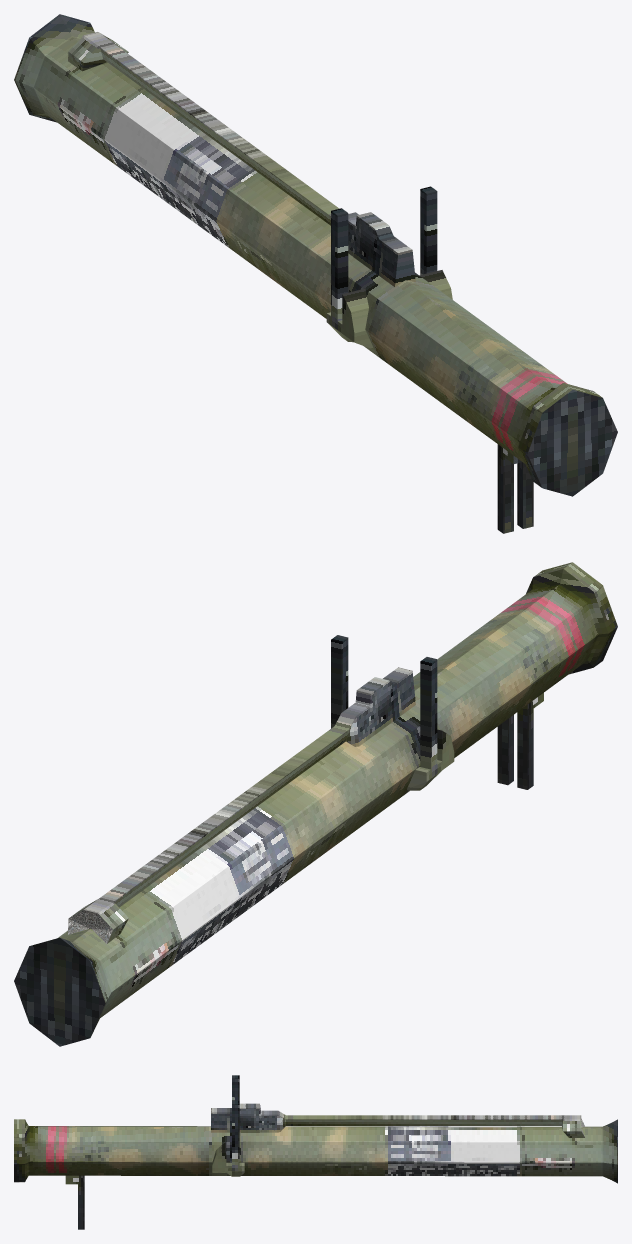
Rendered from bazooka.glb.
The picture shows the model from 3 angles, top to bottom: view 1: azimuth 30°, elevation 25°; view 2: azimuth 150°, elevation 25°; view 3: azimuth 270°, elevation 25°; orthographic projection. The views are drawn at different scales.
Visible parts, largest first — view 1: Bazooka; view 2: Bazooka; view 3: Bazooka.
Part boxes in pixels (x1,y1,x2,y2): Bazooka: (14, 14, 617, 533); Bazooka: (14, 562, 617, 1046); Bazooka: (14, 1075, 617, 1229).
Bounding box in the file's own units: 0.1349 × 0.298 × 1.2.
Materials: 1 (1 with a texture image).
